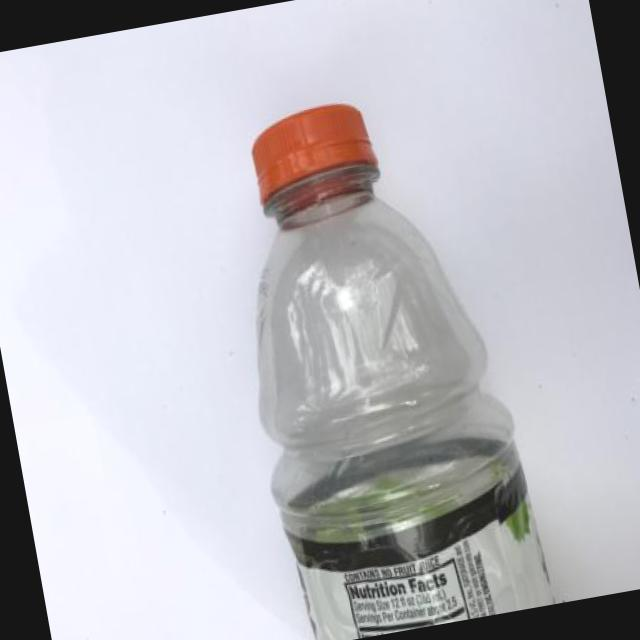Recycle: (204, 70, 550, 640)
